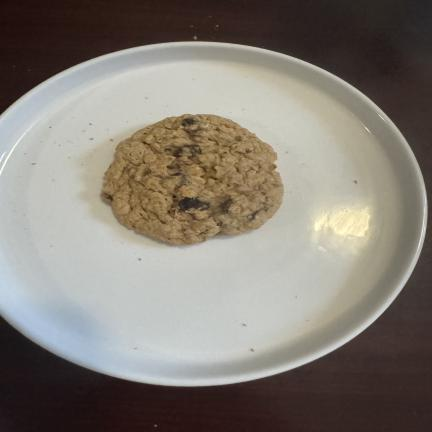cookie: (102, 115, 283, 244)
